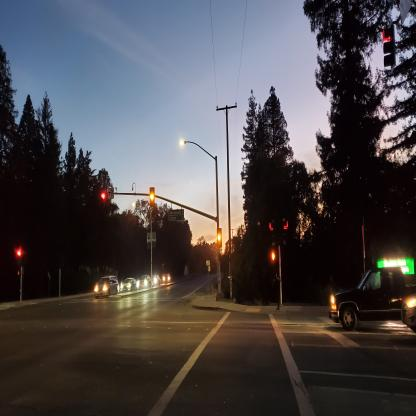left-red: (102, 192, 106, 211)
yellow: (150, 187, 155, 207), (217, 228, 222, 248)
